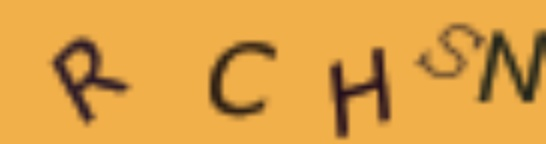C: (204, 38, 280, 121)
H: (327, 44, 394, 139)
N: (474, 23, 546, 105)
R: (47, 34, 133, 130)
S: (415, 20, 487, 81)
